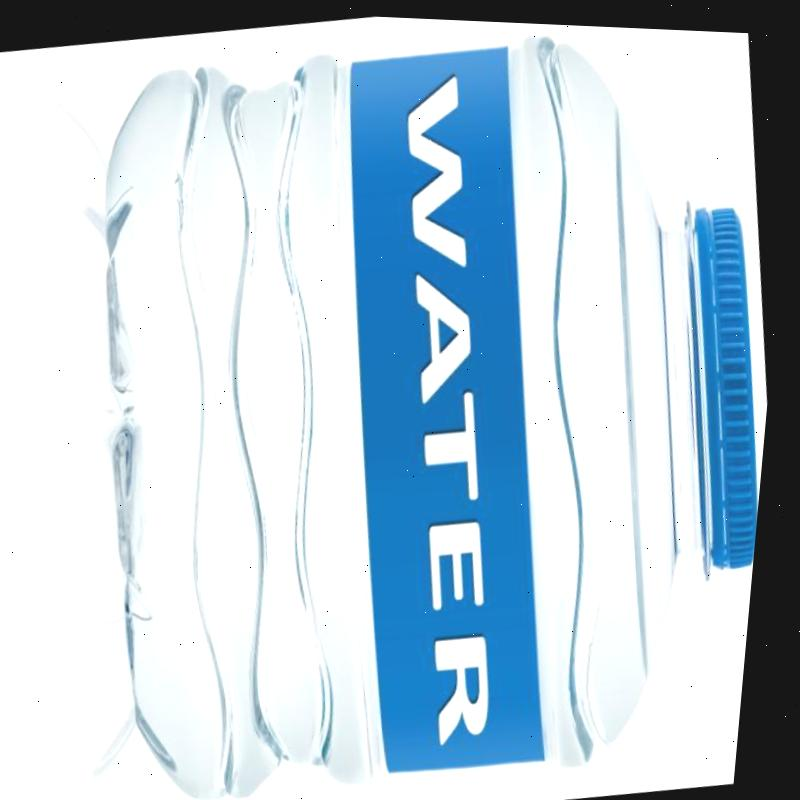botella: (41, 3, 800, 800)
